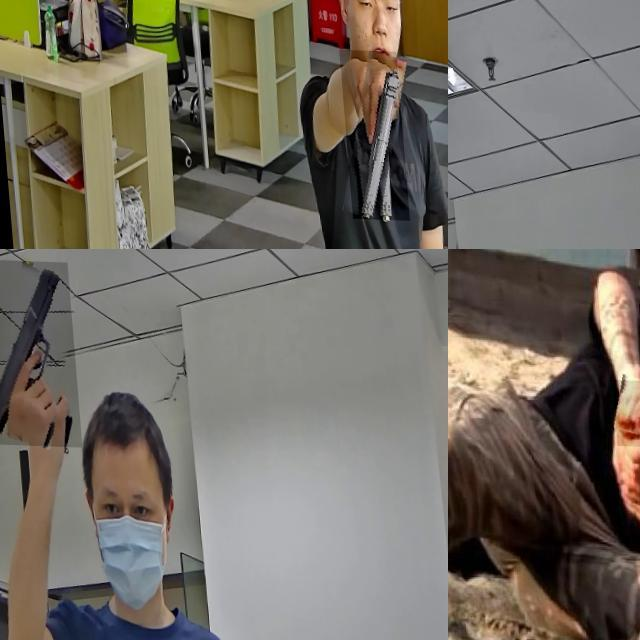-: (608, 377, 640, 446)
gun-knife-thesis - v11 Yolov5 augmented: (0, 258, 75, 446), (334, 47, 402, 218)
